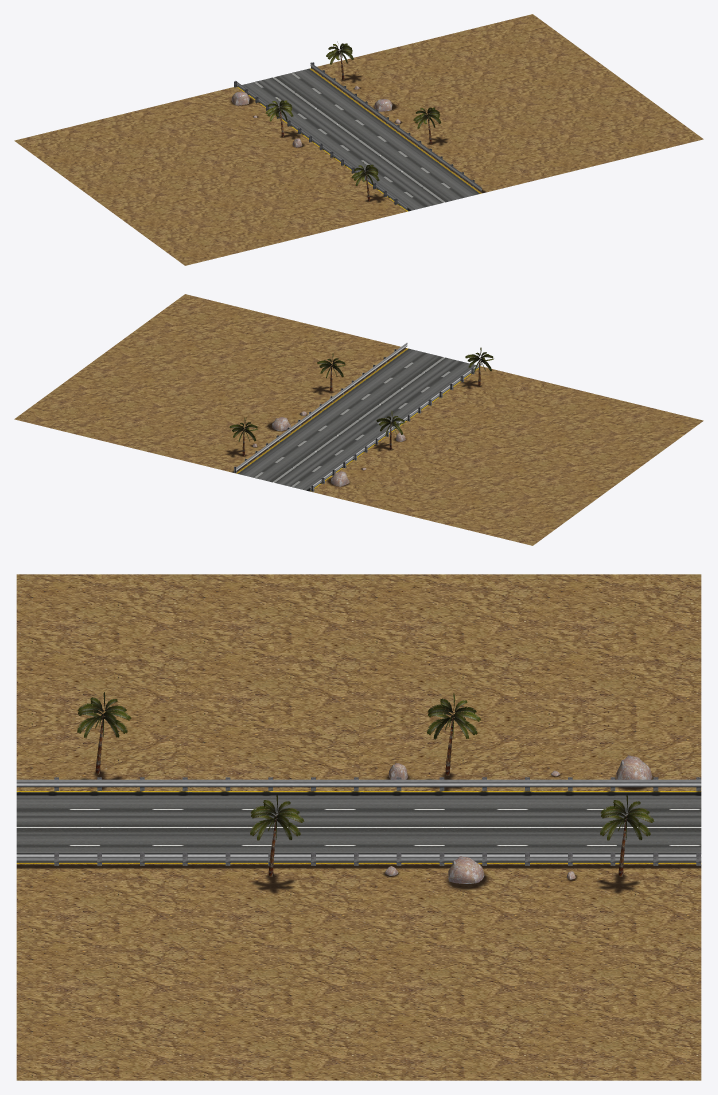
3 views of the same model, one above another, from view 1: azimuth 30°, elevation 25°; view 2: azimuth 150°, elevation 25°; view 3: azimuth 270°, elevation 25° (orthographic). The views are drawn at different scales.
Visible parts, largest first — view 1: land, road, relling, tree1, rock0; view 2: land, road, relling, tree1, rock0; view 3: land, road, relling, tree1, rock0.
Boxes of the visible parts, x1=… form: land: x1=14, y1=14, x2=703, y2=265; road: x1=237, y1=68, x2=481, y2=211; relling: x1=234, y1=62, x2=481, y2=209; tree1: x1=265, y1=41, x2=440, y2=201; rock0: x1=231, y1=86, x2=400, y2=147; land: x1=14, y1=294, x2=703, y2=545; road: x1=236, y1=348, x2=481, y2=491; relling: x1=234, y1=343, x2=481, y2=491; tree1: x1=229, y1=347, x2=493, y2=456; rock0: x1=252, y1=411, x2=405, y2=486; land: x1=16, y1=574, x2=701, y2=1080; road: x1=16, y1=791, x2=701, y2=863; relling: x1=16, y1=777, x2=701, y2=865; tree1: x1=77, y1=692, x2=654, y2=876; rock0: x1=385, y1=755, x2=652, y2=883.
Size of the model in its own units: 140 by 11.27 by 80.
